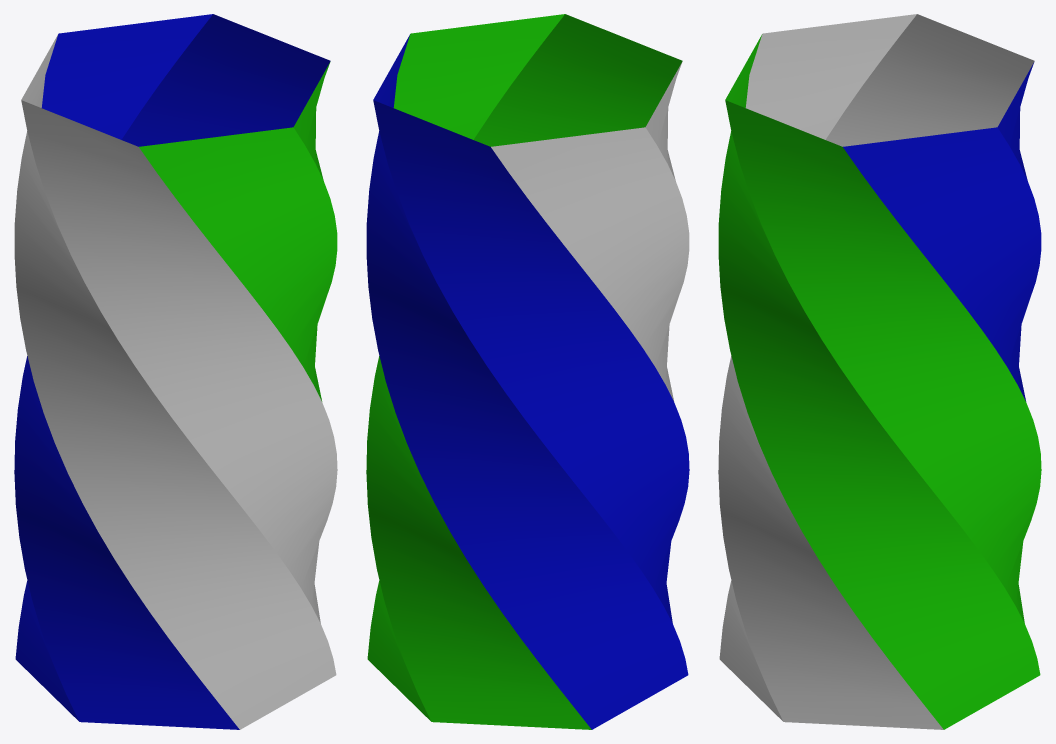
The model's file is 11-PrismHex.fbx.
3 renders of one model, left to right at view 1: azimuth 30°, elevation 25°; view 2: azimuth 150°, elevation 25°; view 3: azimuth 270°, elevation 25°, orthographic.
Visible parts, largest first — view 1: Circle; view 2: Circle; view 3: Circle.
Part boxes in pixels (x1,y1,x2,y2): Circle: (14, 14, 337, 729); Circle: (366, 14, 689, 729); Circle: (718, 14, 1041, 729).
Size of the model in its own units: 200 by 401 by 200.
